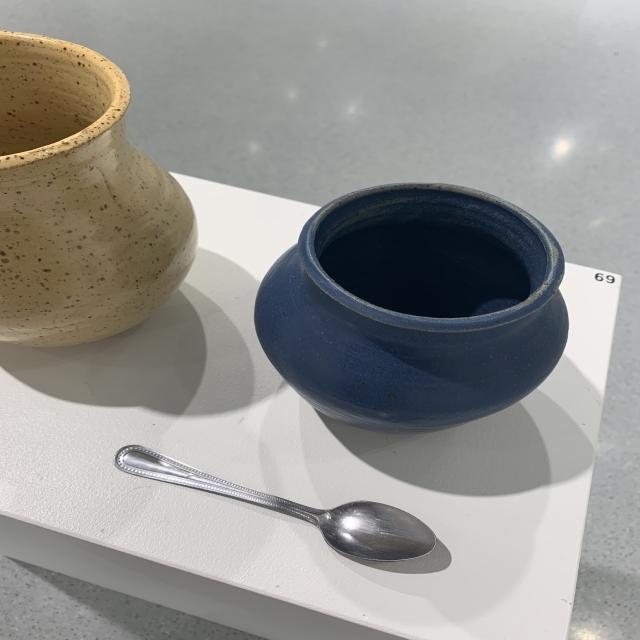Spoon: (107, 436, 450, 581)
